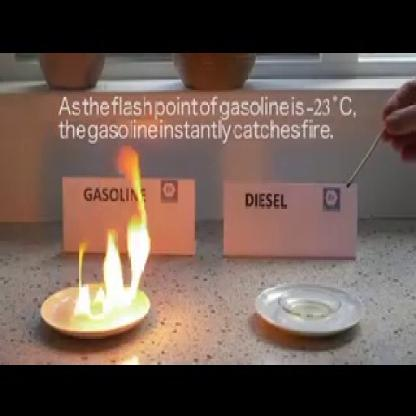fire: (74, 141, 154, 324)
